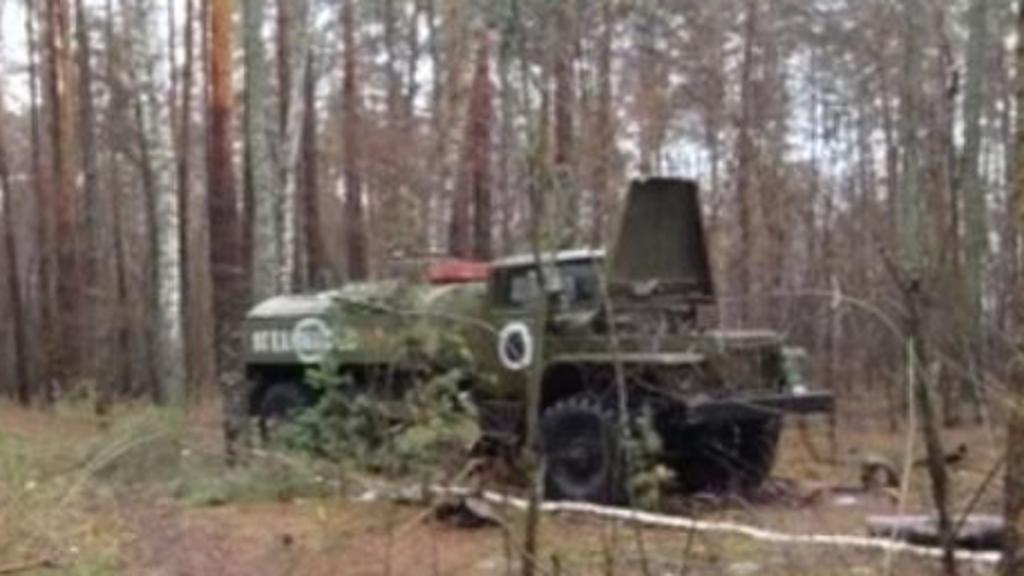TRUCK: (242, 245, 840, 508)
